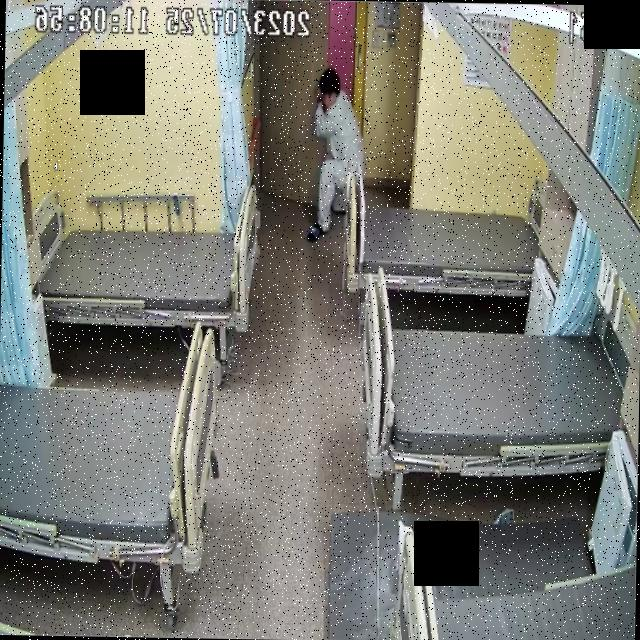bed: (0, 318, 220, 567), (360, 318, 626, 476), (24, 208, 260, 331), (347, 193, 538, 294)
danger: (305, 68, 365, 242)
patient: (306, 68, 366, 241)
